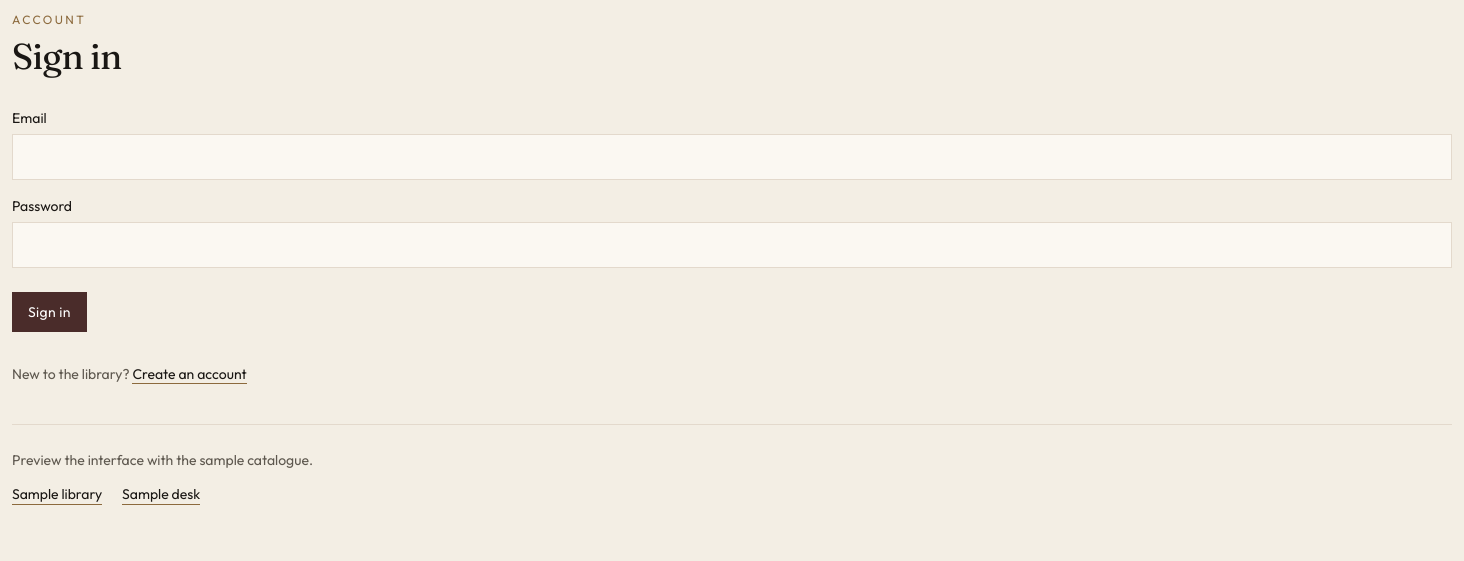
Test case: sign in › states that a valid form is not connected yet
Type "amina.rahman@example.edu" into the field labelled "Email" at (732, 157), box [12,134,1452,180]
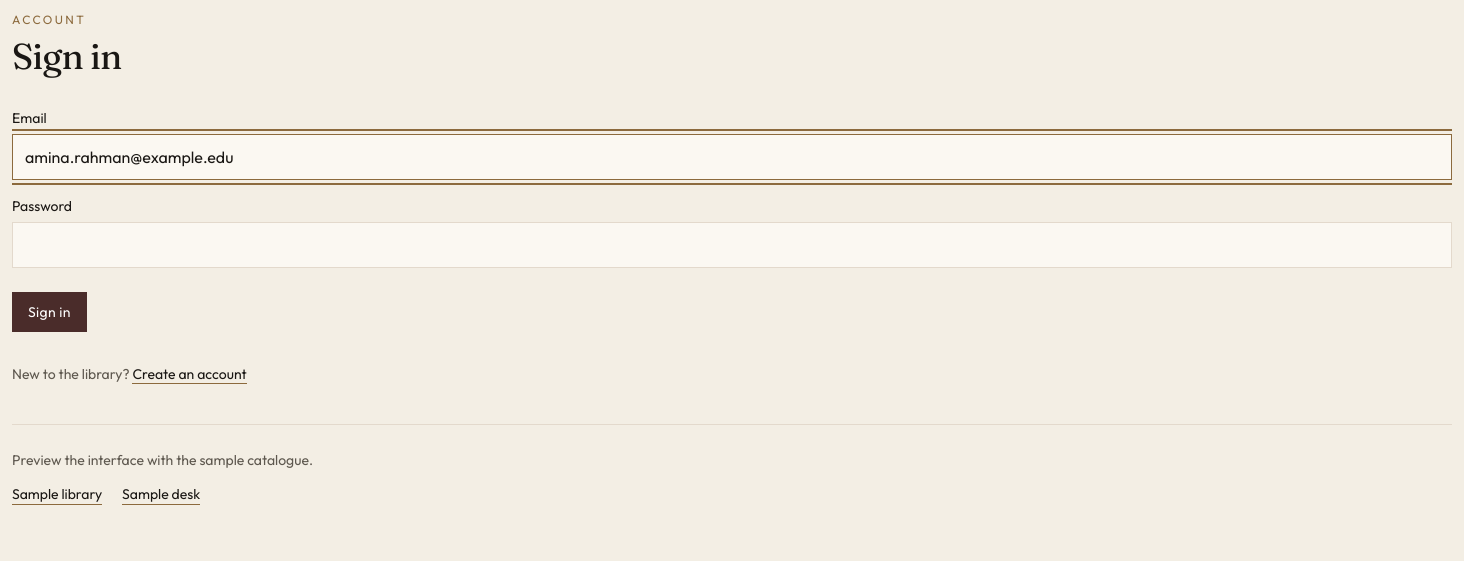
Type "library-pass" into the password field labelled "Password" at (732, 245), box [12,222,1452,268]
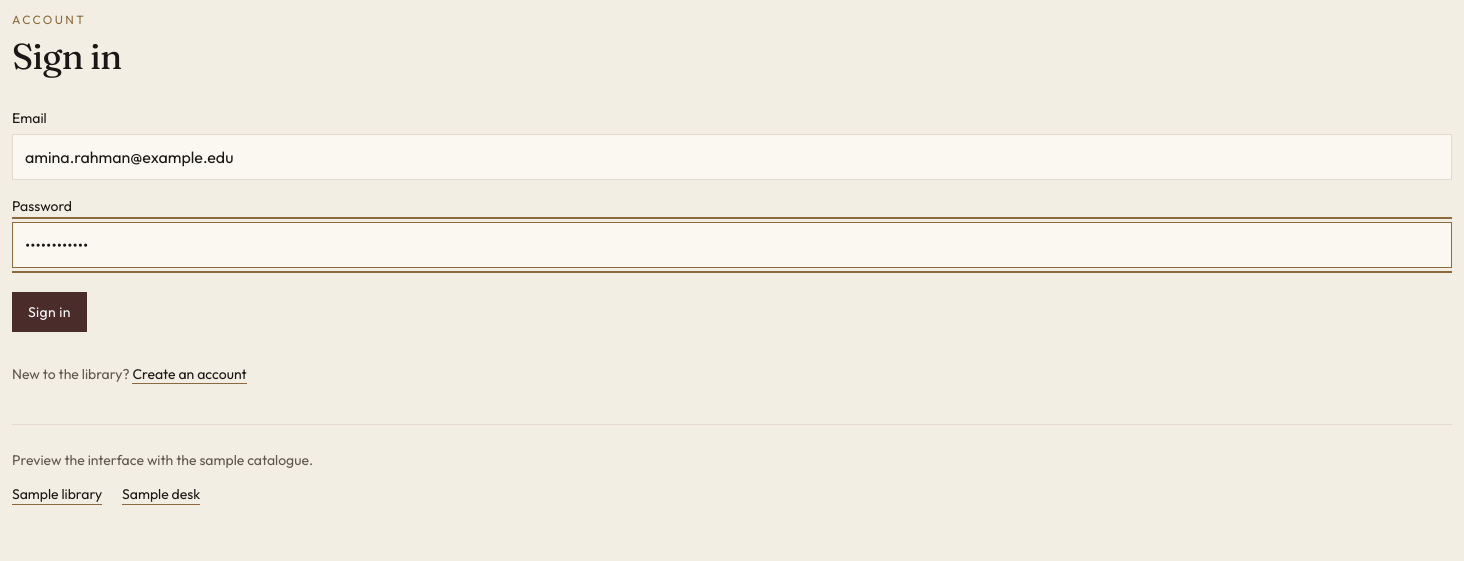
Click the button "Sign in" at (49, 312), box [12,292,87,332]
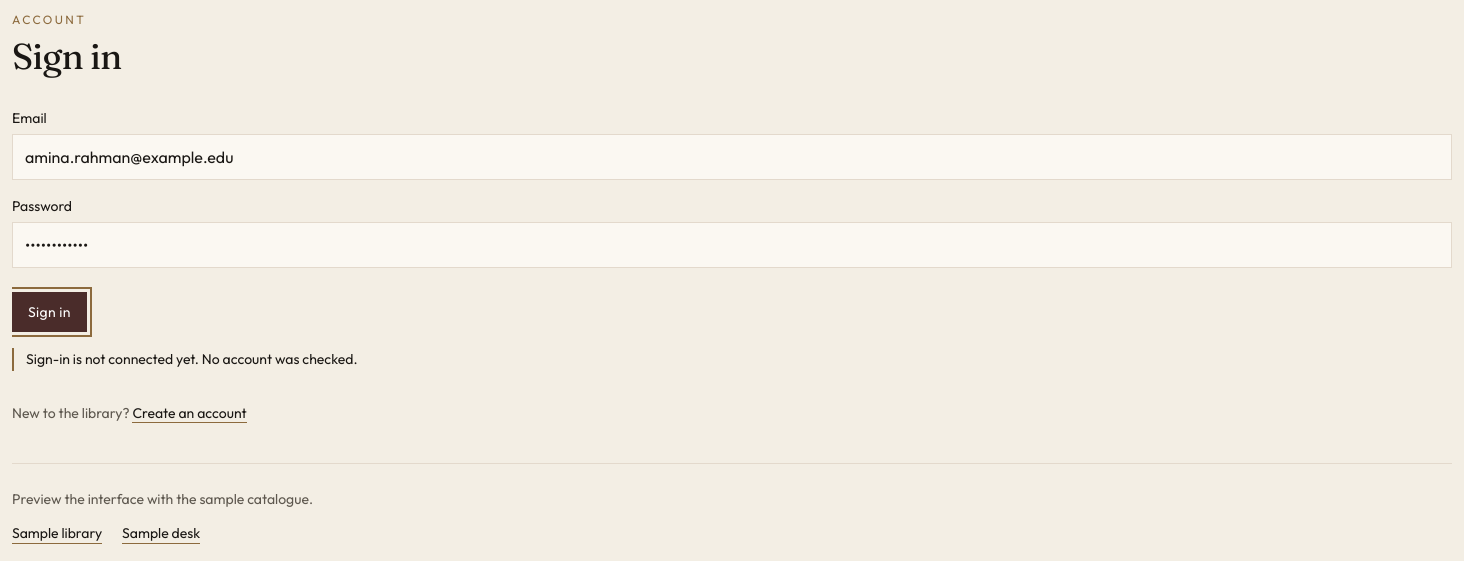
Expected: the message reads "Sign-in is not connected yet. No account was checked.", [26,350,358,368]
